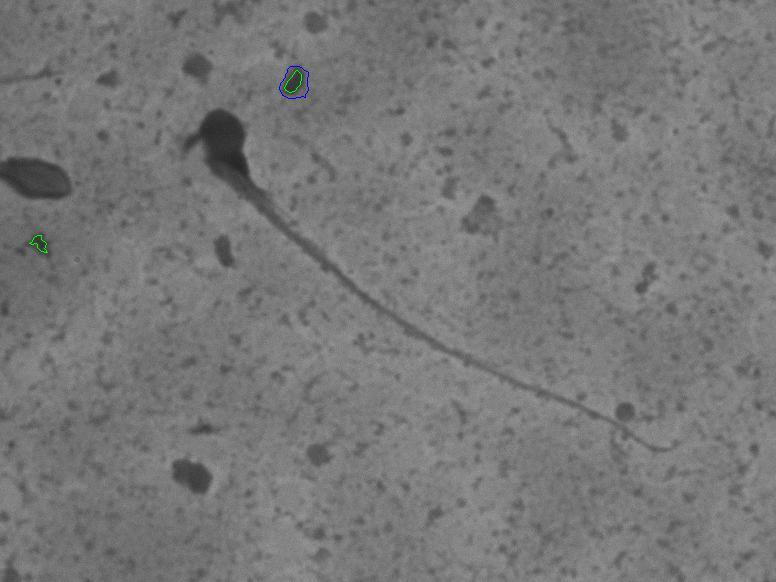Abnormal: (158, 59, 685, 478)
